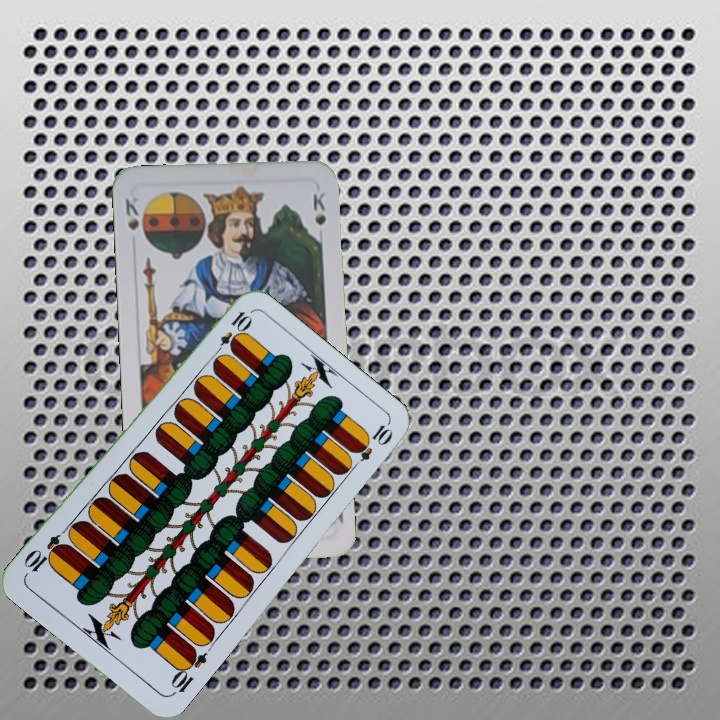E10: (166, 644, 210, 699), (209, 307, 253, 360)
SK: (121, 192, 142, 233)
